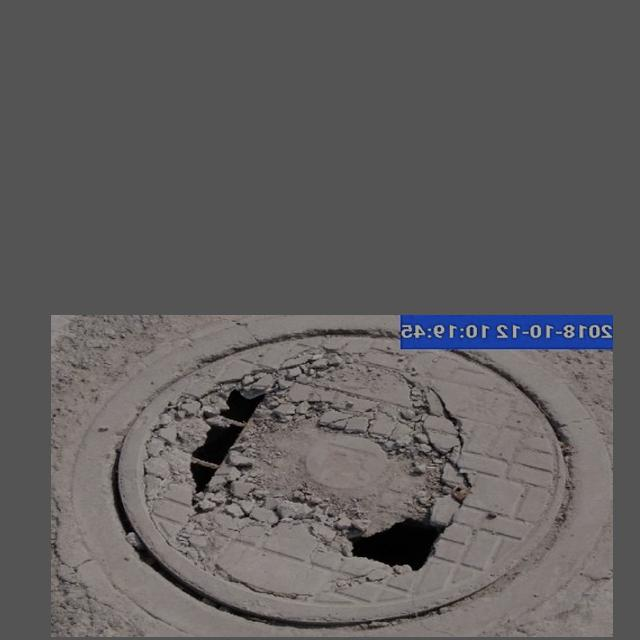broke: (92, 336, 585, 619)
